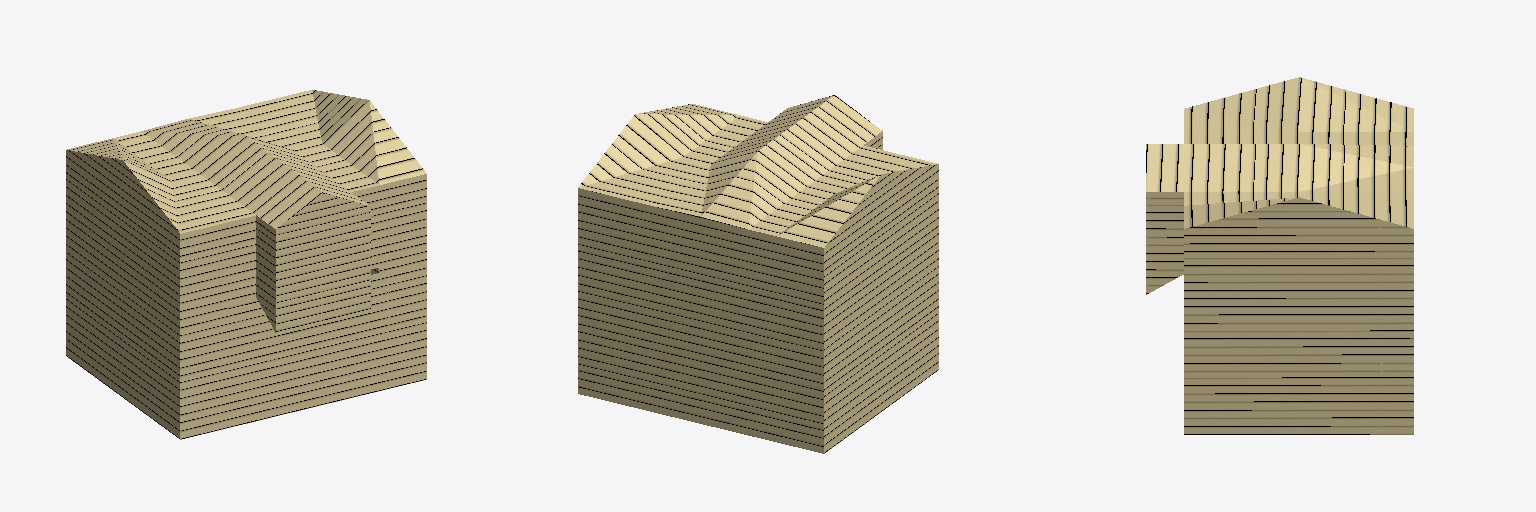
3 views of the same model, side by side, from view 1: azimuth 30°, elevation 25°; view 2: azimuth 150°, elevation 25°; view 3: azimuth 270°, elevation 25° (orthographic).
Parts seen in each view (by area): view 1: Cube.018_Cube.031; view 2: Cube.018_Cube.031; view 3: Cube.018_Cube.031.
Boxes of the visible parts, x1,y1,x2,y2 form: Cube.018_Cube.031: [66, 90, 426, 439]; Cube.018_Cube.031: [578, 95, 938, 453]; Cube.018_Cube.031: [1146, 77, 1413, 434].
Size of the model in its own units: 4.3 by 3.95 by 4.05.
1 materials, 1 textured.